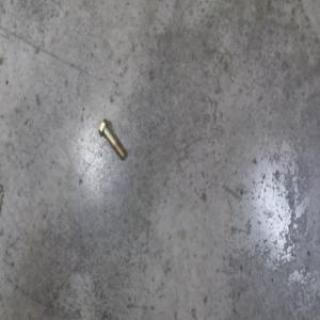Bolttrack_idkeyframe: (98, 117, 126, 161)
